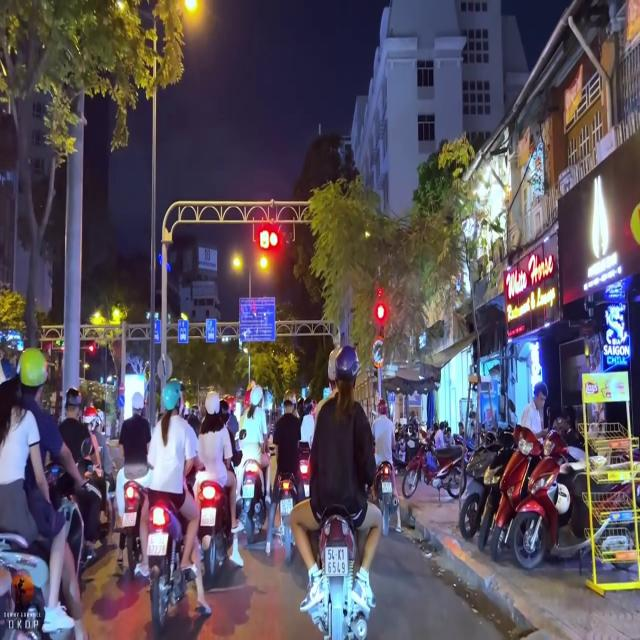bien_trang: (324, 545, 349, 580)
